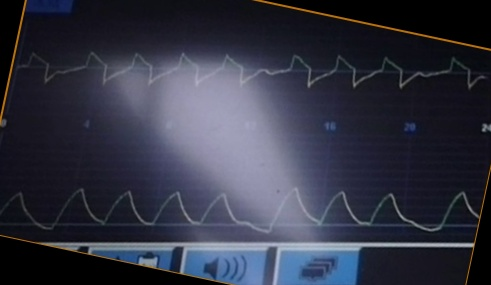Ineffective_effort Flow: (17, 44, 471, 109)
Ineffective_effort Volume: (1, 173, 476, 235)
